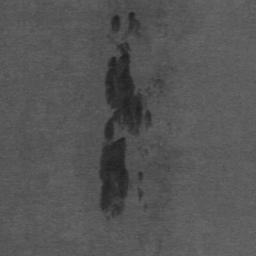Iron scale compression: (100, 41, 151, 218), (127, 12, 143, 34), (111, 17, 121, 32), (137, 187, 144, 198), (138, 172, 143, 184)
